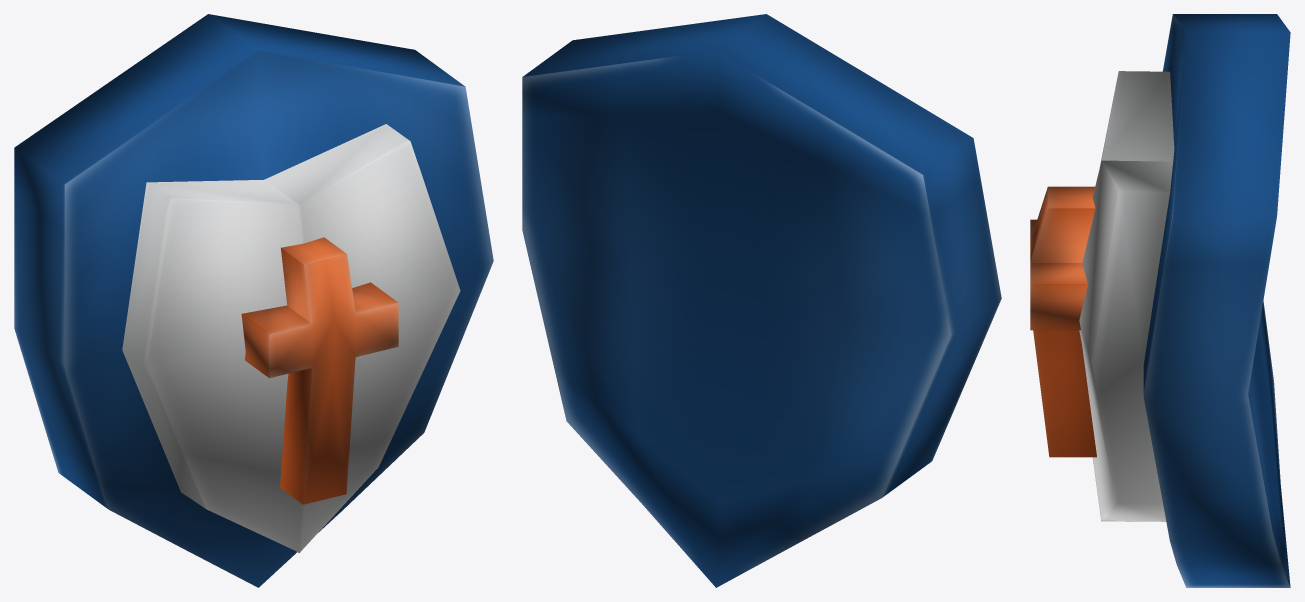
The model's file is item-protect.fbx.
The picture shows the model from 3 angles, left to right: view 1: azimuth 30°, elevation 25°; view 2: azimuth 150°, elevation 25°; view 3: azimuth 270°, elevation 25°; orthographic projection. The views are drawn at different scales.
Visible parts, largest first — view 1: Cube.004; view 2: Cube.004; view 3: Cube.004.
Part boxes in pixels (left/top/right/bottom): Cube.004: left=14, top=14, right=493, bottom=587; Cube.004: left=522, top=14, right=1001, bottom=587; Cube.004: left=1030, top=14, right=1290, bottom=587.
Size of the model in its own units: 272 by 325 by 138.
